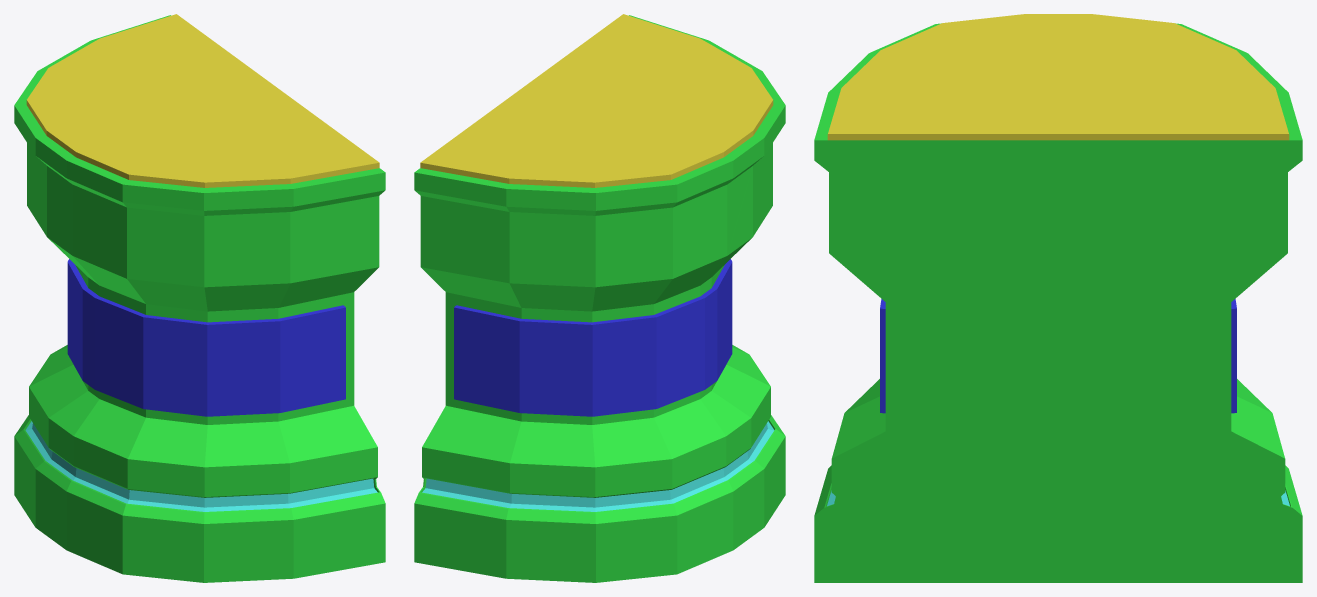
Rendered from Bar_Table_01_Edge_A.fbx.
3 renders of one model, left to right at view 1: azimuth 30°, elevation 25°; view 2: azimuth 150°, elevation 25°; view 3: azimuth 270°, elevation 25°, orthographic. The views are drawn at different scales.
Parts seen in each view (by area): view 1: Bar_Table_01_Edge_A; view 2: Bar_Table_01_Edge_A; view 3: Bar_Table_01_Edge_A.
Part boxes in pixels (x1=…): Bar_Table_01_Edge_A: x1=14, y1=14, x2=385, y2=582; Bar_Table_01_Edge_A: x1=414, y1=14, x2=785, y2=582; Bar_Table_01_Edge_A: x1=814, y1=14, x2=1302, y2=582.
Bounding box in the file's own units: 55.75 × 92.71 × 91.44.
